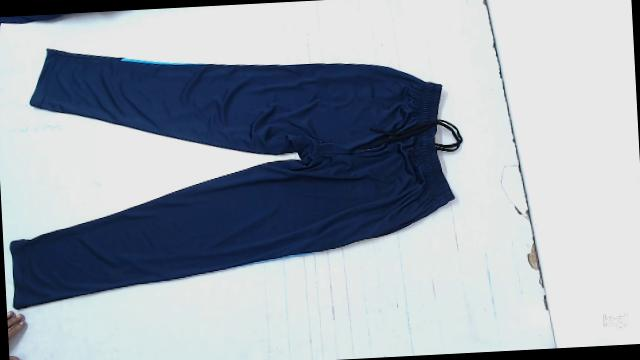new-garment: (10, 49, 461, 307)
